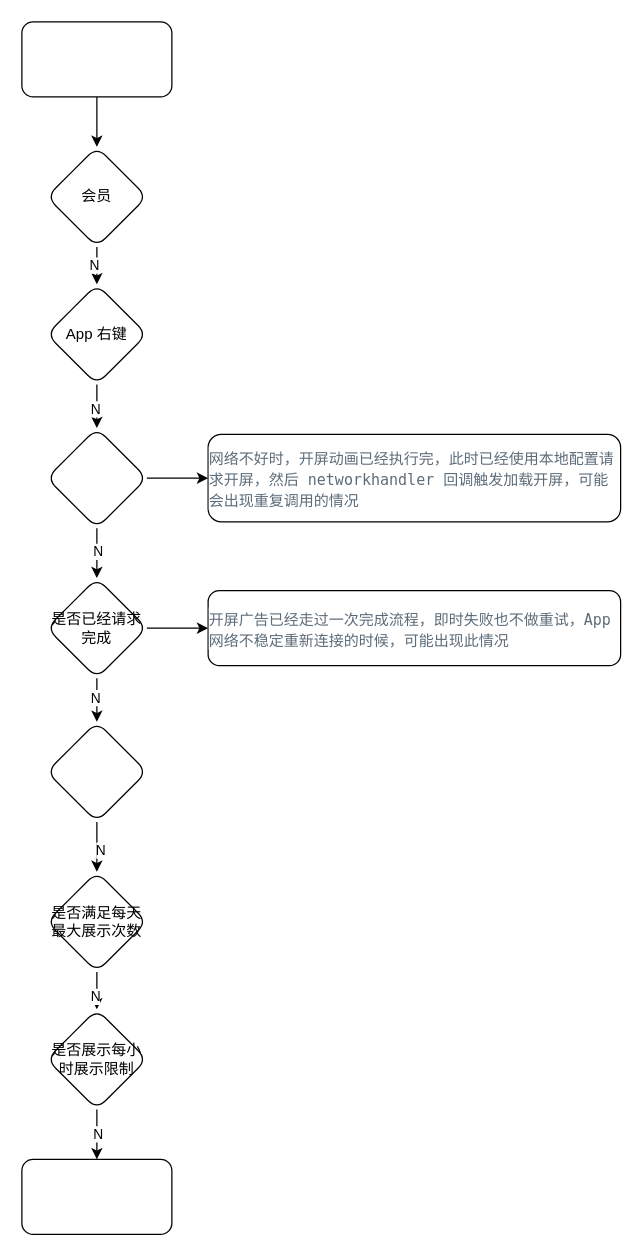
Some shapes in this 643 by 1256 pixel diagram are drawn without their labels. Each missing label, with the centre of its shape:
"Splash" belongs at pixel 96 59.
"是否在两次展示间隔中" belongs at pixel 96 771.
"是否已经请求中" belongs at pixel 96 477.
"请求开屏广告" belongs at pixel 96 1196.
